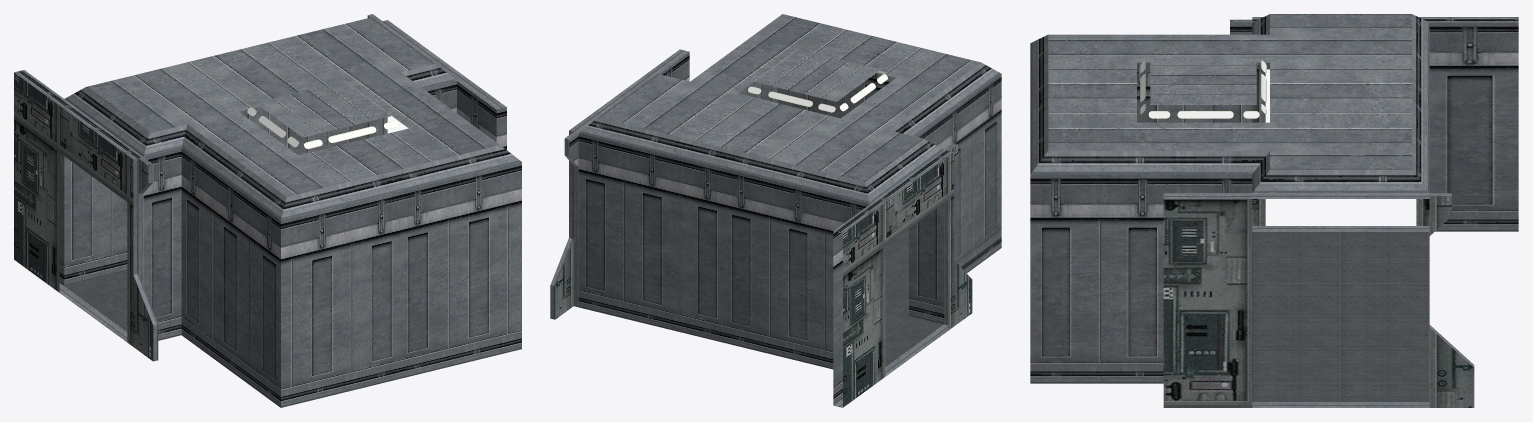
Rendered from thm_nboo_thed_emp_retreat_r18_guardroom_mesh_r18.fbx.
3 renders of one model, left to right at view 1: azimuth 30°, elevation 25°; view 2: azimuth 150°, elevation 25°; view 3: azimuth 270°, elevation 25°, orthographic. The views are drawn at different scales.
Visible parts, largest first — view 1: mesh_node; view 2: mesh_node; view 3: mesh_node.
Part boxes in pixels (x1,y1,x2,y2): mesh_node: (14, 14, 521, 407); mesh_node: (550, 14, 1001, 407); mesh_node: (1030, 14, 1518, 407).
Bounding box in the file's own units: 9.7 × 5.9 × 11.
